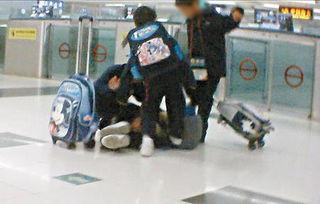Fall-Detected: (83, 94, 171, 152)
